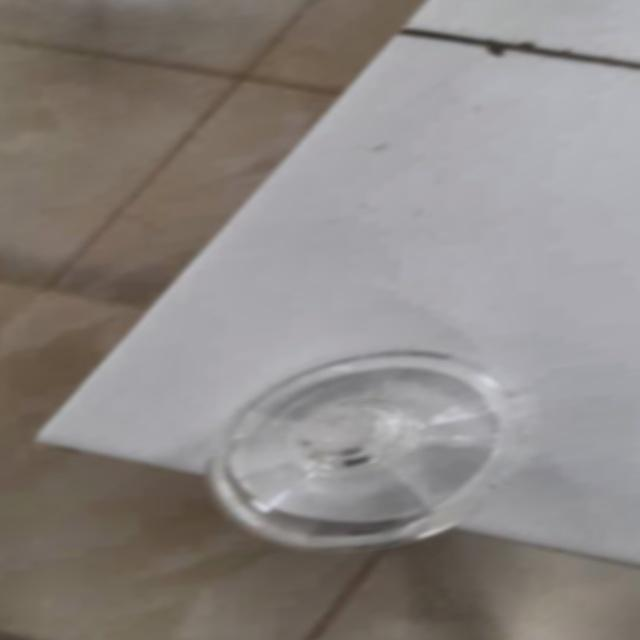Density Bottles for Solids: (196, 332, 532, 579)
